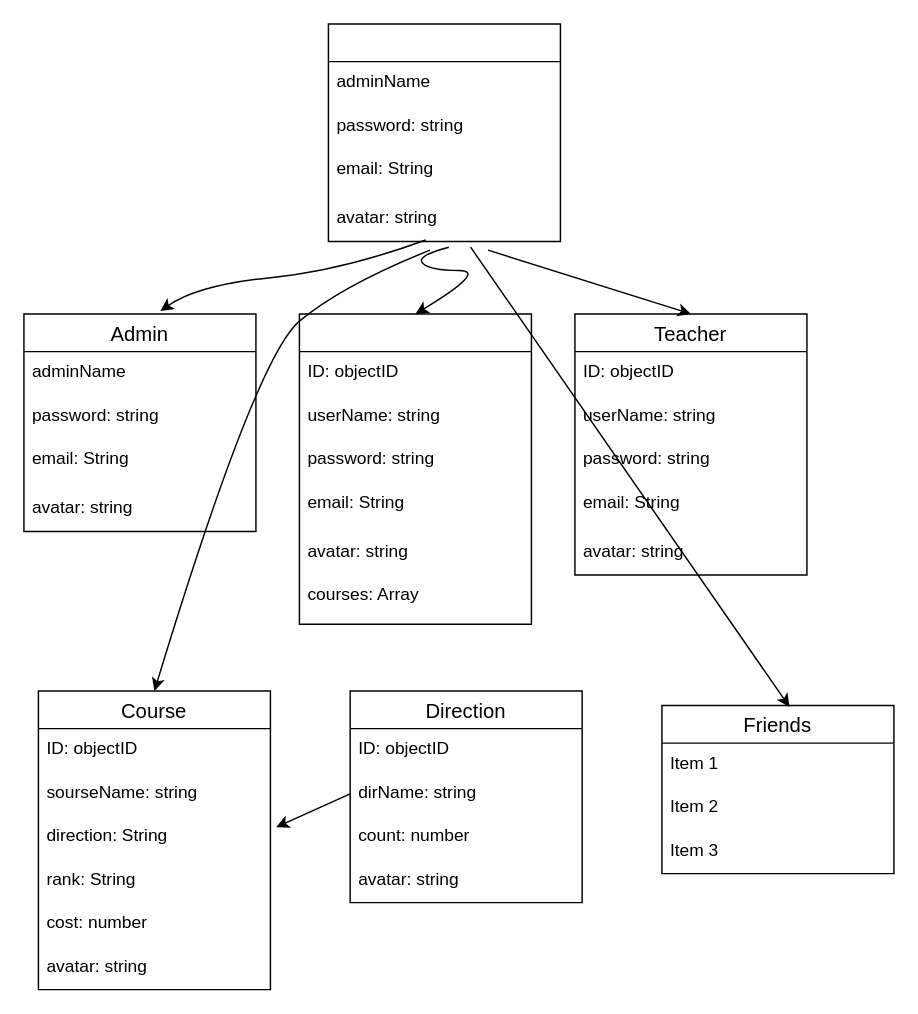
The diagram is 918 pixels wide and 1014 high, and some of its shapes have lost their labels. The box of each missing label's shape, as (x1, y1, x2, y2) in pixels:
Student: (298, 312, 531, 624)
User: (327, 22, 560, 241)
